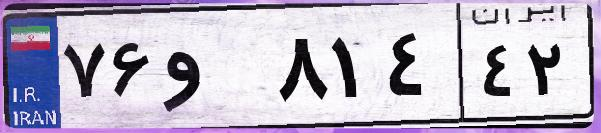1: (330, 28, 385, 110)
2: (525, 38, 570, 115)
4: (385, 28, 445, 110), (475, 38, 525, 113)
6: (110, 28, 158, 98)
7: (57, 26, 110, 100)
8: (270, 28, 330, 110)
و: (158, 20, 270, 120)
